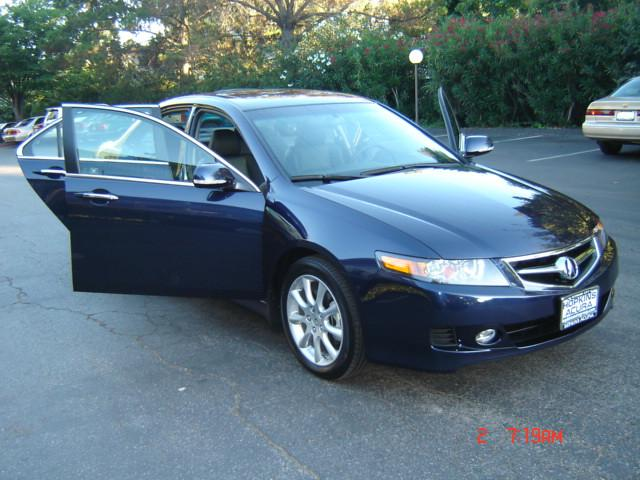windshield: (237, 98, 480, 200)
